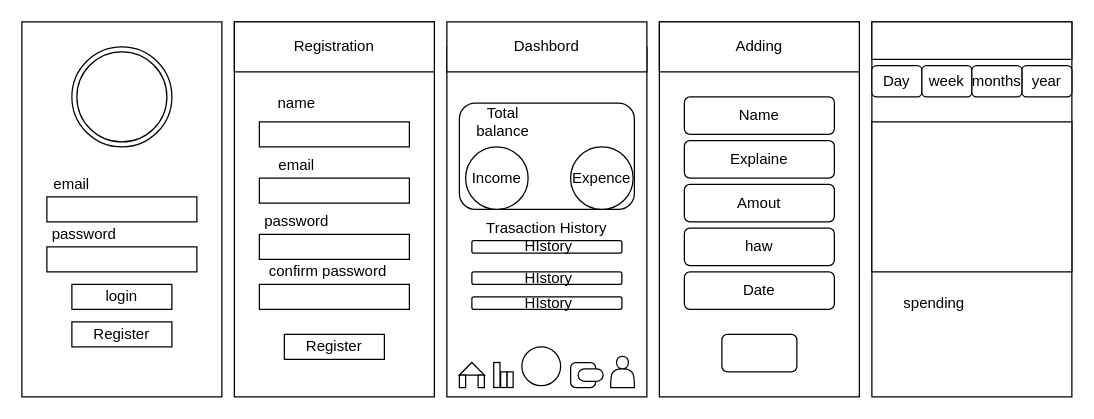
The diagram is 1094 pixels wide and 419 high, and some of its shapes have lost their labels. Here are the shapes that lost their labels. From the top down, the centre of each, then its label:
(x=971, y=40): Statistics
(x=121, y=96): logo
(x=971, y=196): Static table
(x=541, y=366): add
(x=759, y=352): Save
